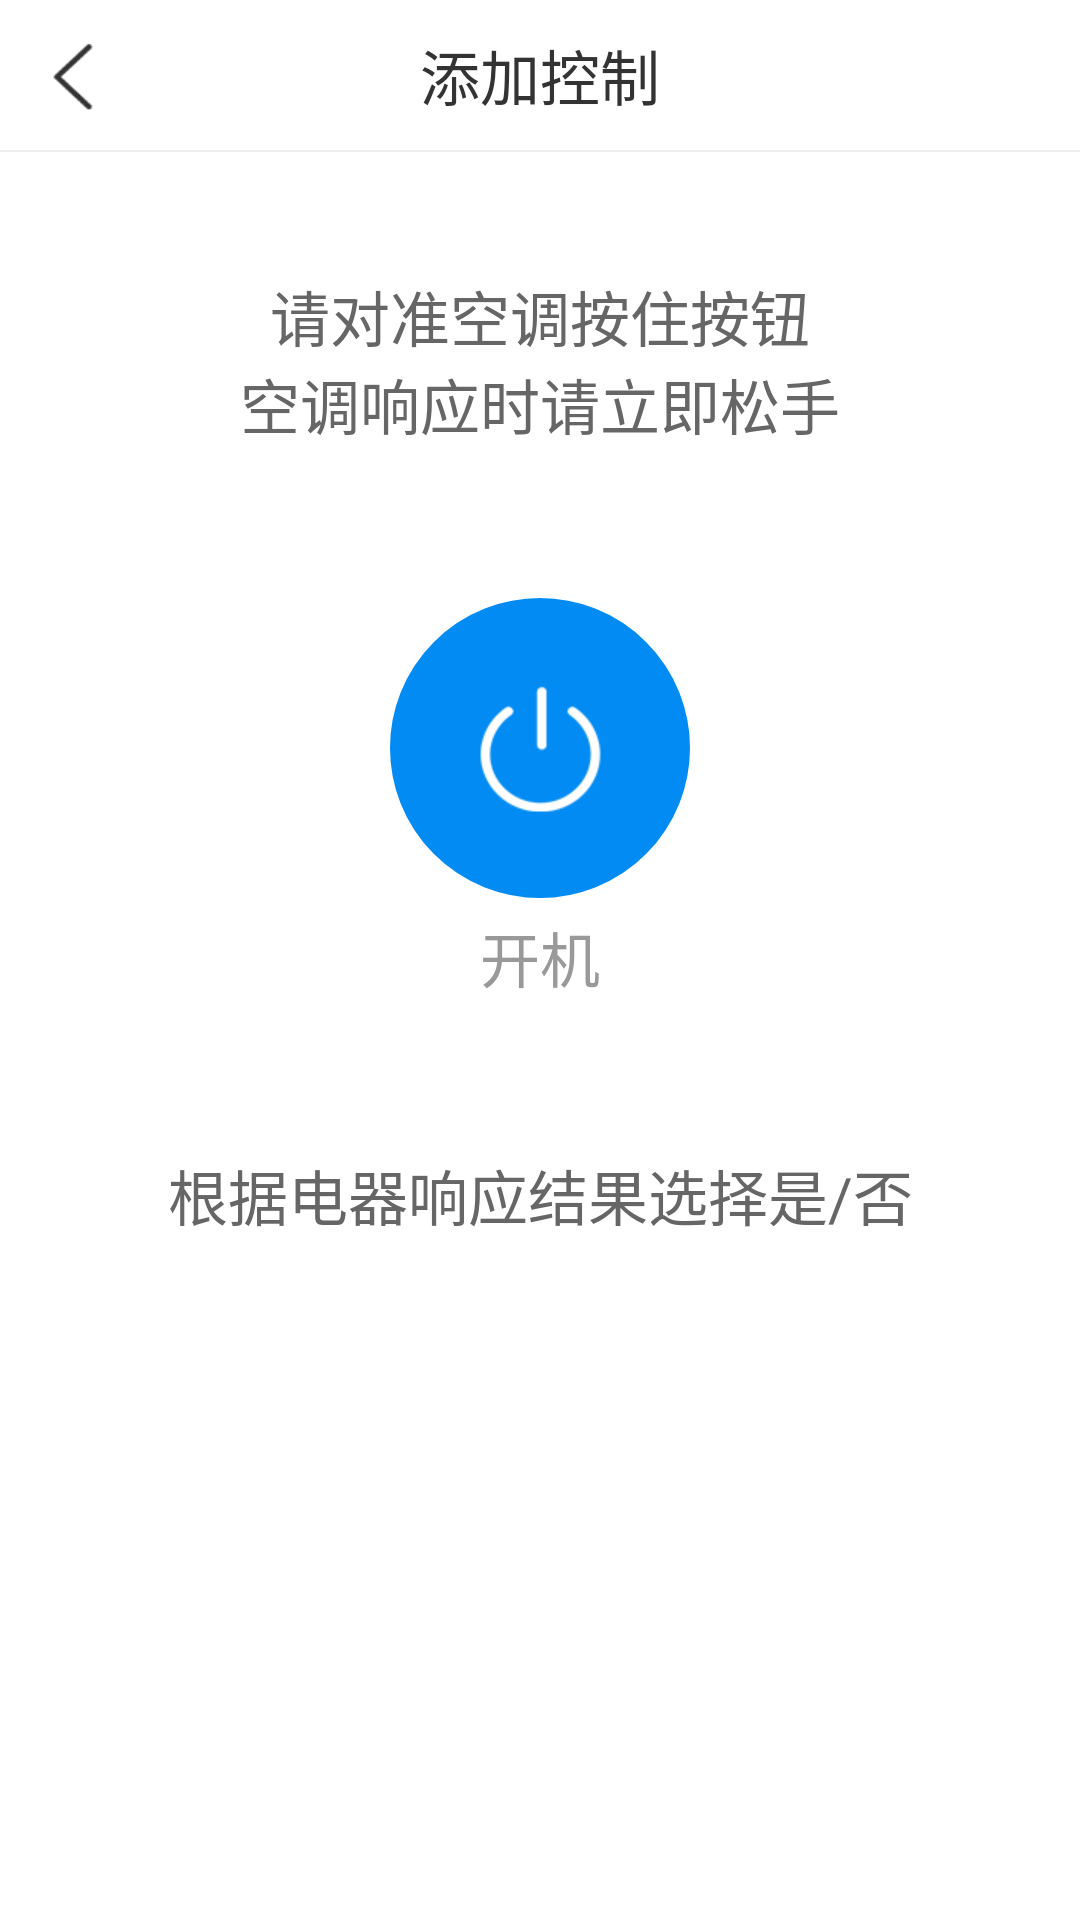

Where icons sit on this 1080×1920 app screen, as (x1, y1, x2, y2):
back: (53, 44, 93, 110)
